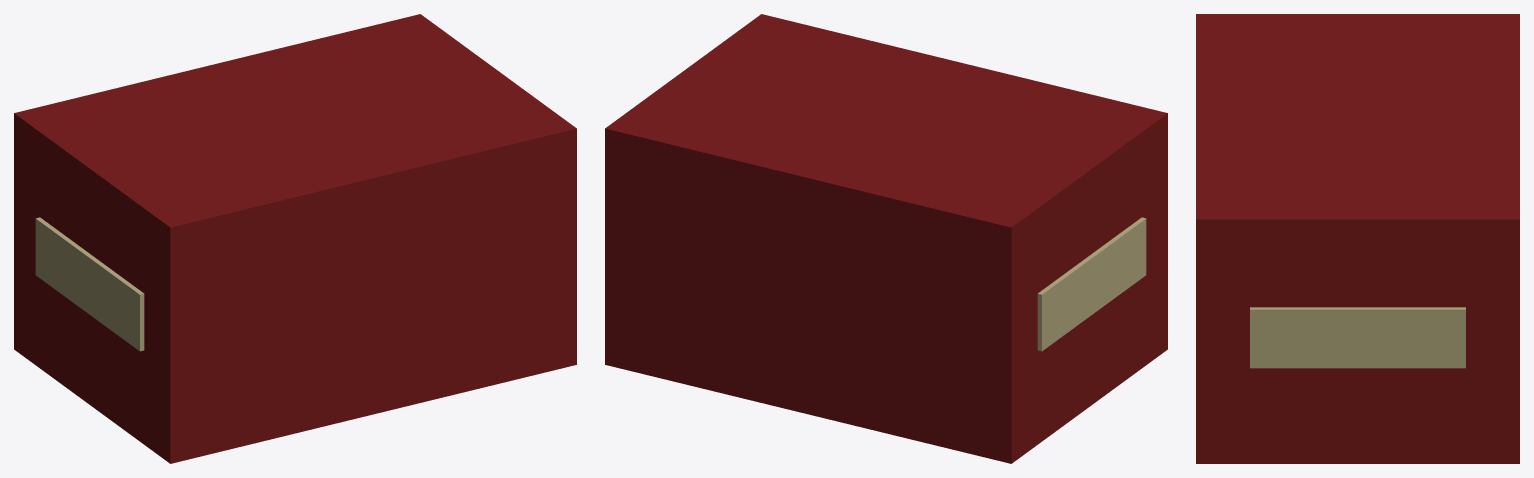
File: shotgun_shells.glb
The picture shows the model from 3 angles, left to right: view 1: azimuth 30°, elevation 25°; view 2: azimuth 150°, elevation 25°; view 3: azimuth 270°, elevation 25°; orthographic projection. The views are drawn at different scales.
Visible parts, largest first — view 1: shotgun_shells; view 2: shotgun_shells; view 3: shotgun_shells.
Part boxes in pixels (x1,y1,x2,y2): shotgun_shells: (14,14,576,463); shotgun_shells: (605,14,1167,463); shotgun_shells: (1196,14,1519,463).
Size of the model in its own units: 0.092 by 0.05 by 0.06.
